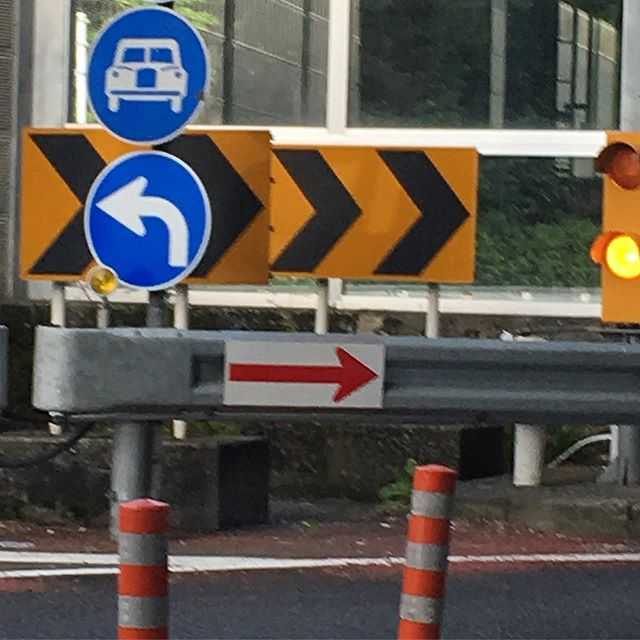sign: (97, 1, 217, 287), (208, 334, 391, 411)
traffic cone: (383, 458, 468, 640), (100, 489, 187, 640)
